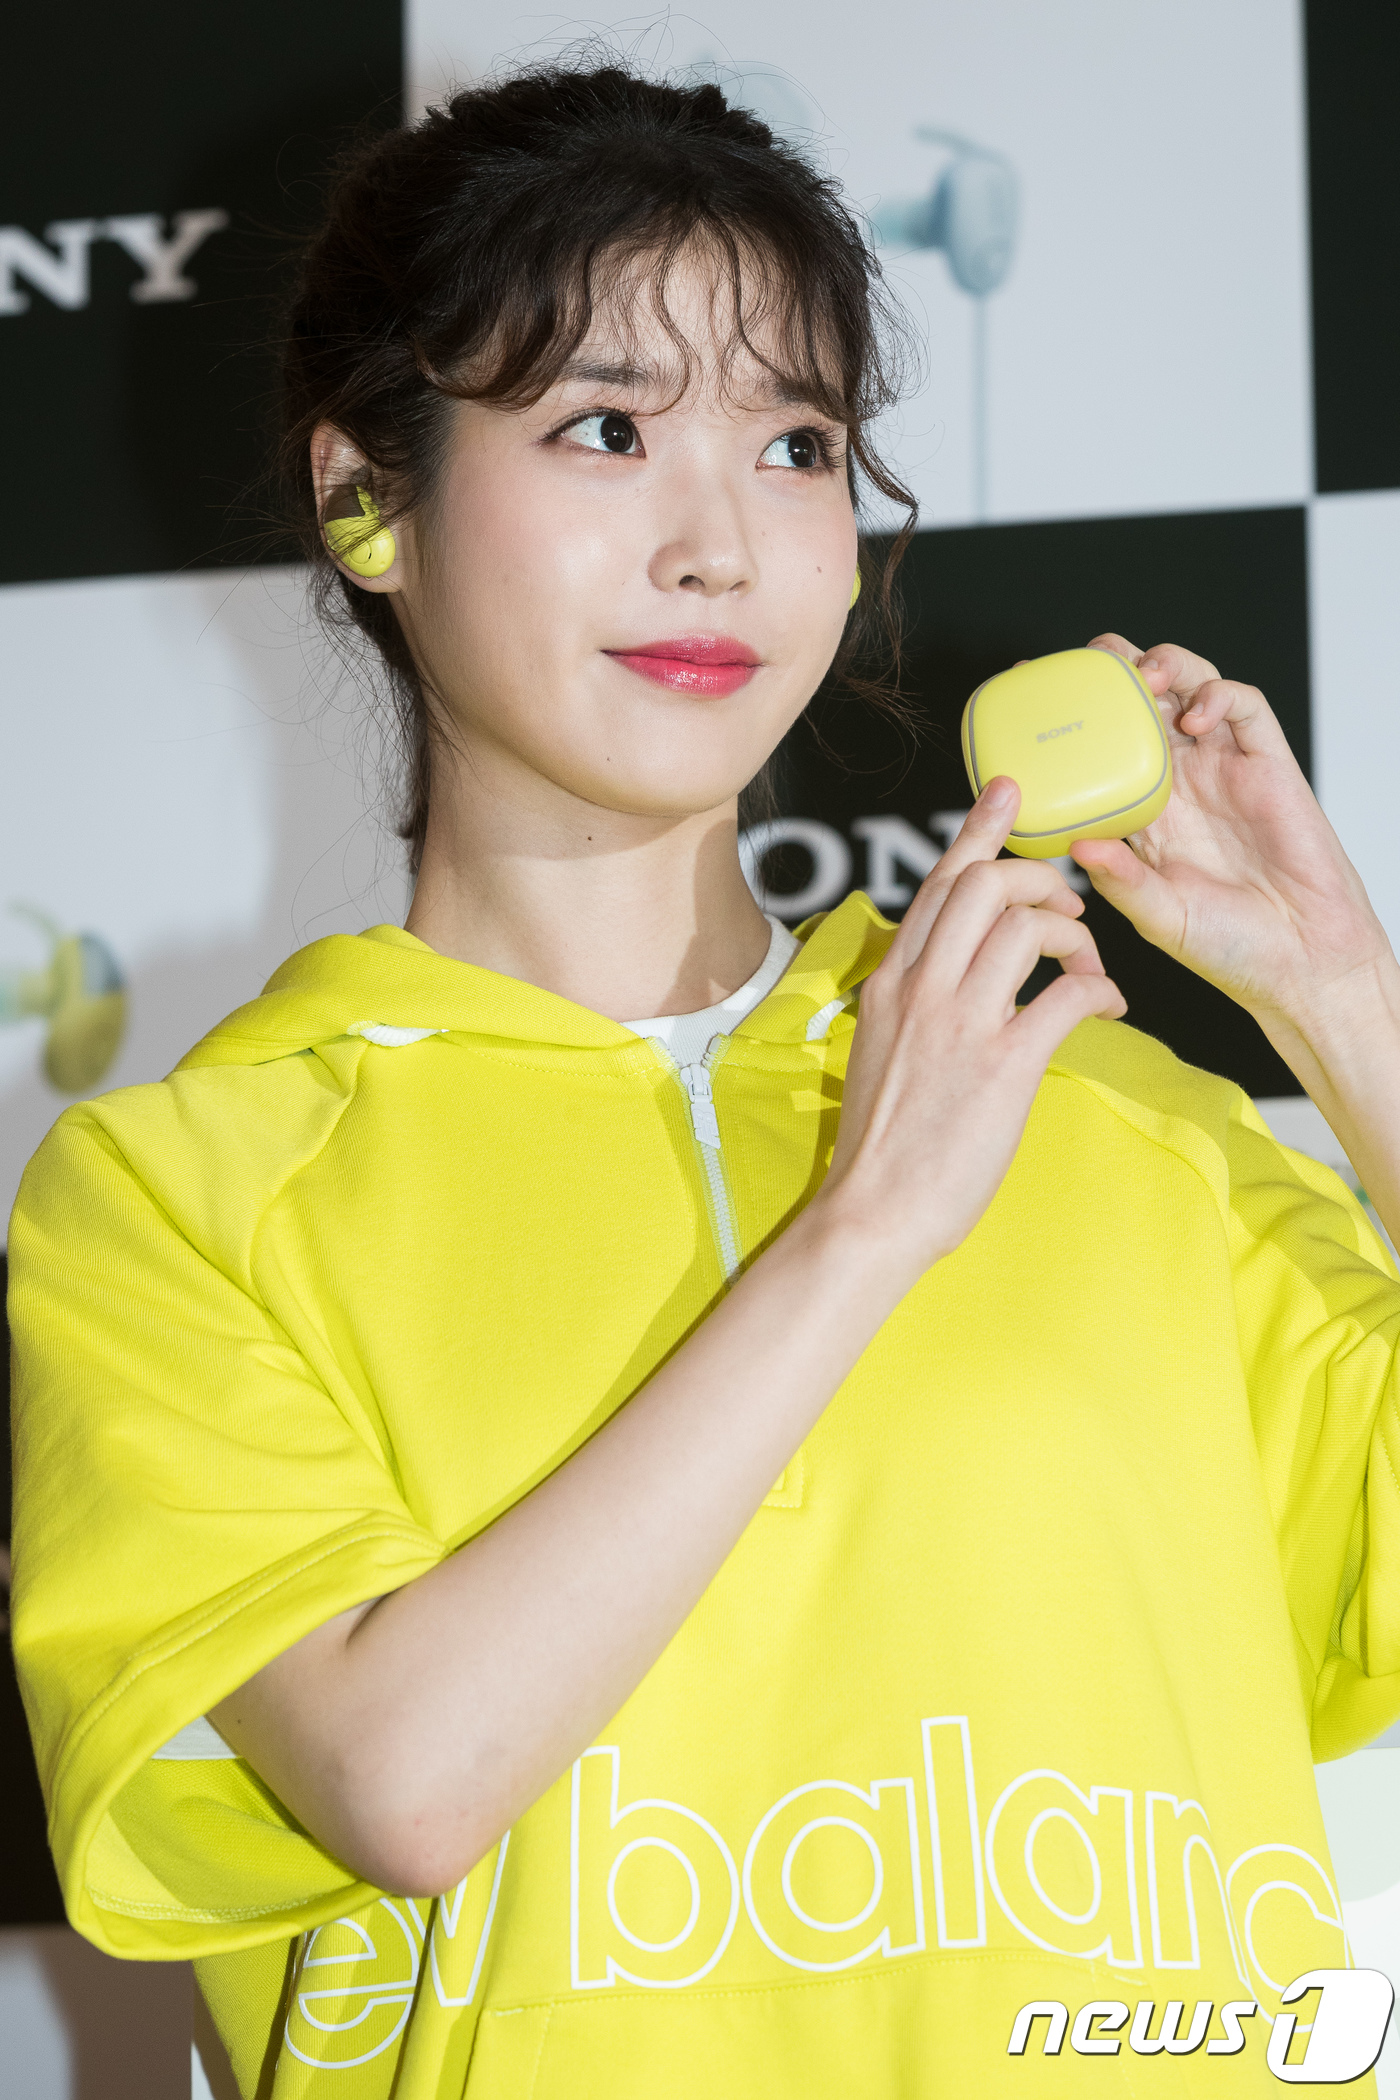earphone: (309, 417, 412, 594)
